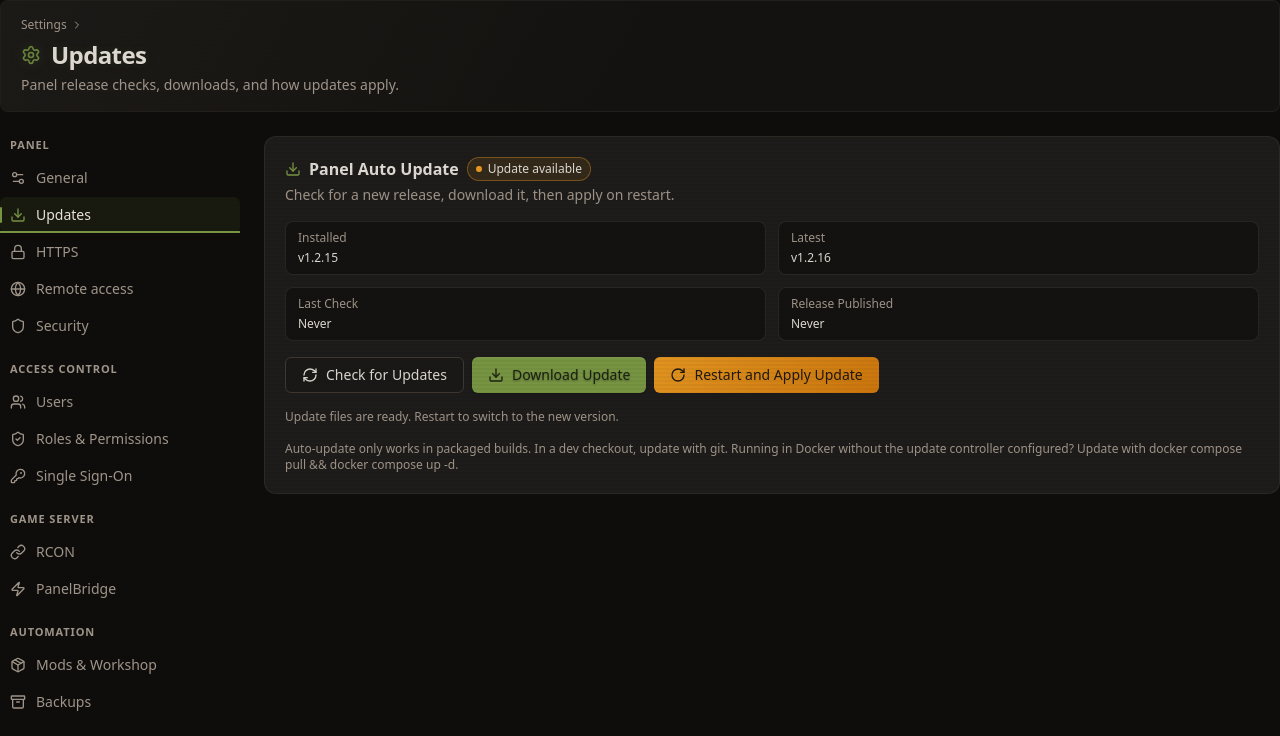
Test: Settings.tsx: the restart wait follows the process, not just the version › reports a rolled-back update as soon as the new process answers on the old version, instead of waiting it out
Click the button "Restart and Apply Update".
click(767, 375)  # box [654,357,879,393]
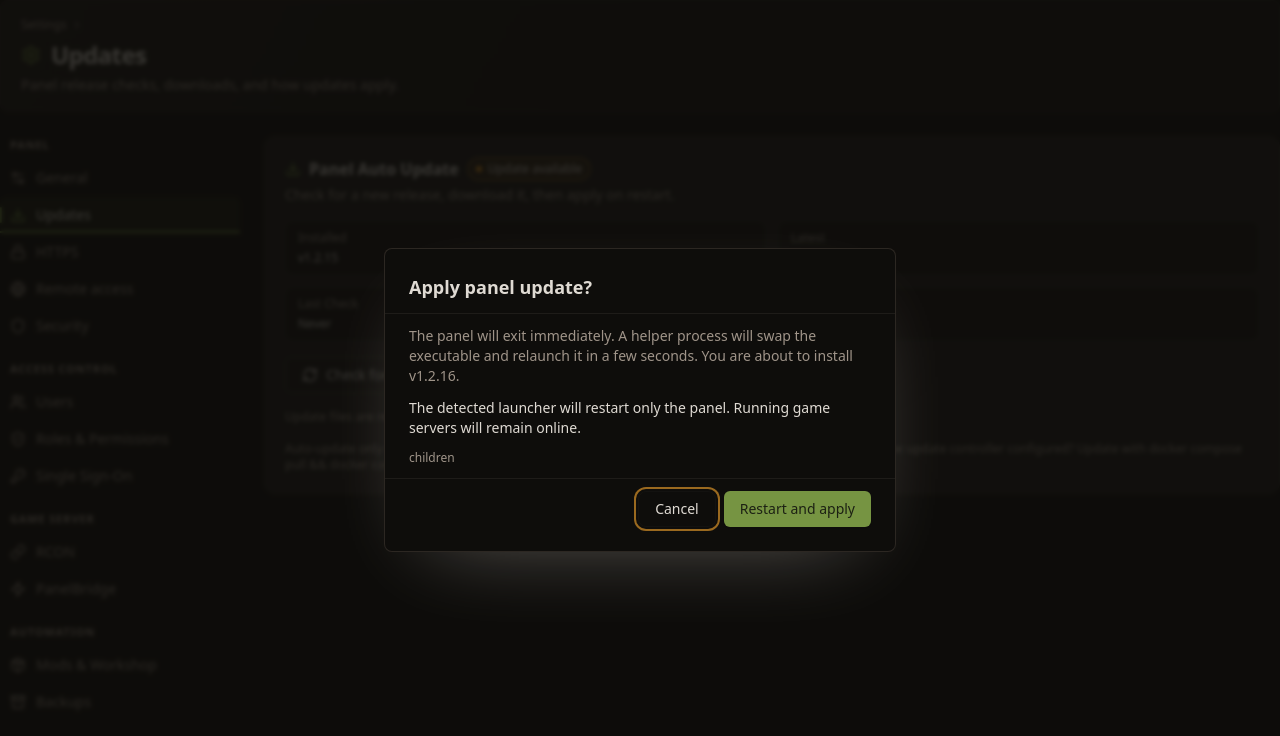
Click the button "Restart and apply".
click(797, 509)  # box [724,491,871,527]
Wait 7000 ms
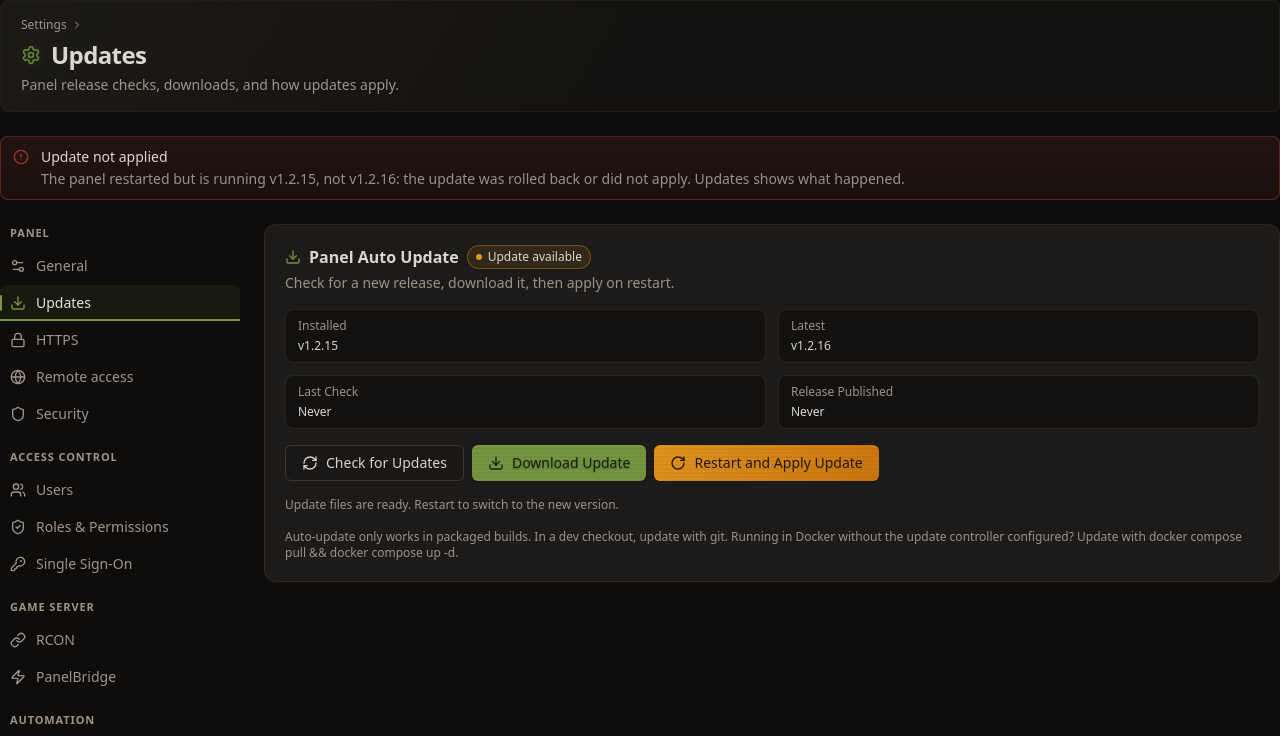
Now the text "Update not applied" is shown, box [41,147,168,166]
Now the text "running v1.2.15, not v1.2.16" is shown, box [41,169,905,188]
